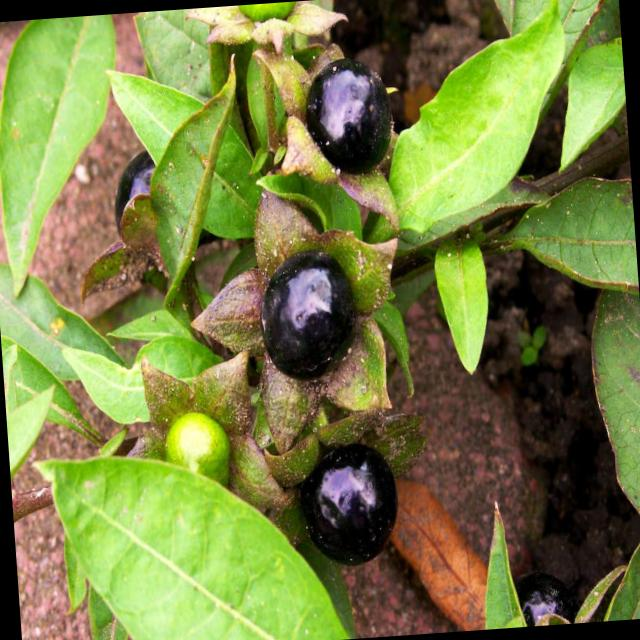Poisonous-Deadly_Nightshade: (108, 48, 423, 592), (425, 22, 640, 630)
